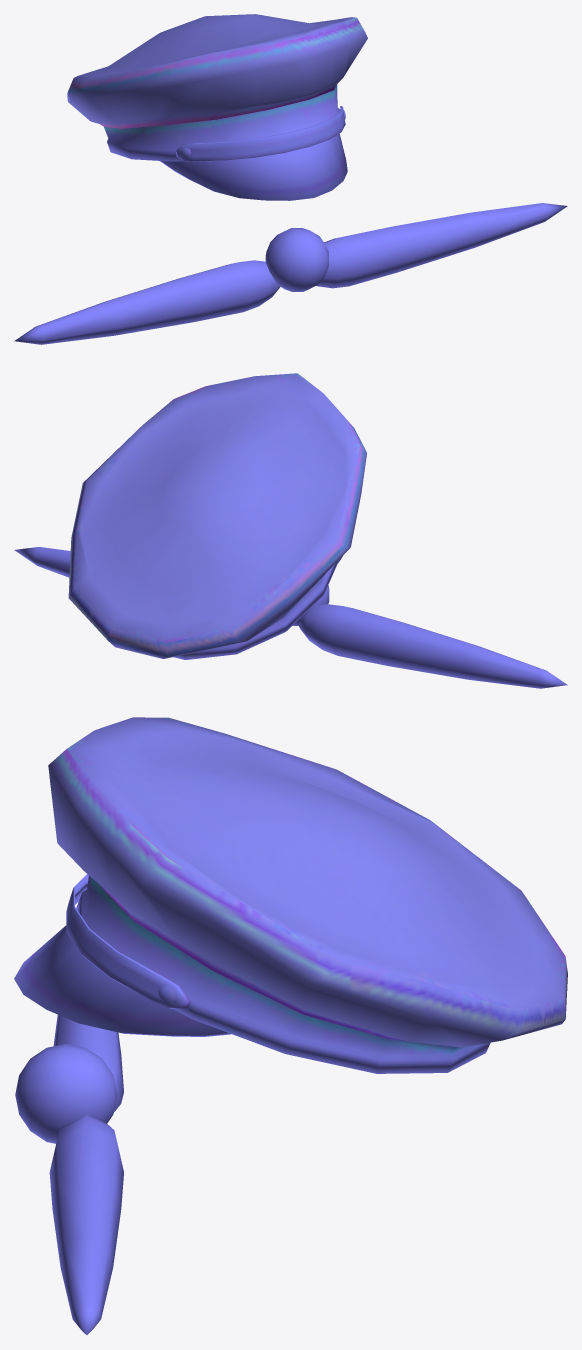
Rendered from folk_hat.glb.
3 views of the same model, one above another, from view 1: azimuth 30°, elevation 25°; view 2: azimuth 150°, elevation 25°; view 3: azimuth 270°, elevation 25° (orthographic). The views are drawn at different scales.
Visible parts, largest first — view 1: Folk Hat; view 2: Folk Hat; view 3: Folk Hat.
Part boxes in pixels (box(x1,y1,x2,y2)): Folk Hat: box(14, 14, 567, 344); Folk Hat: box(14, 373, 567, 688); Folk Hat: box(14, 717, 567, 1334).
Bounding box in the file's own units: 0.5186 × 0.2338 × 0.287.
1 material, 1 textured.
